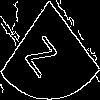Z: (24, 25, 63, 80)
